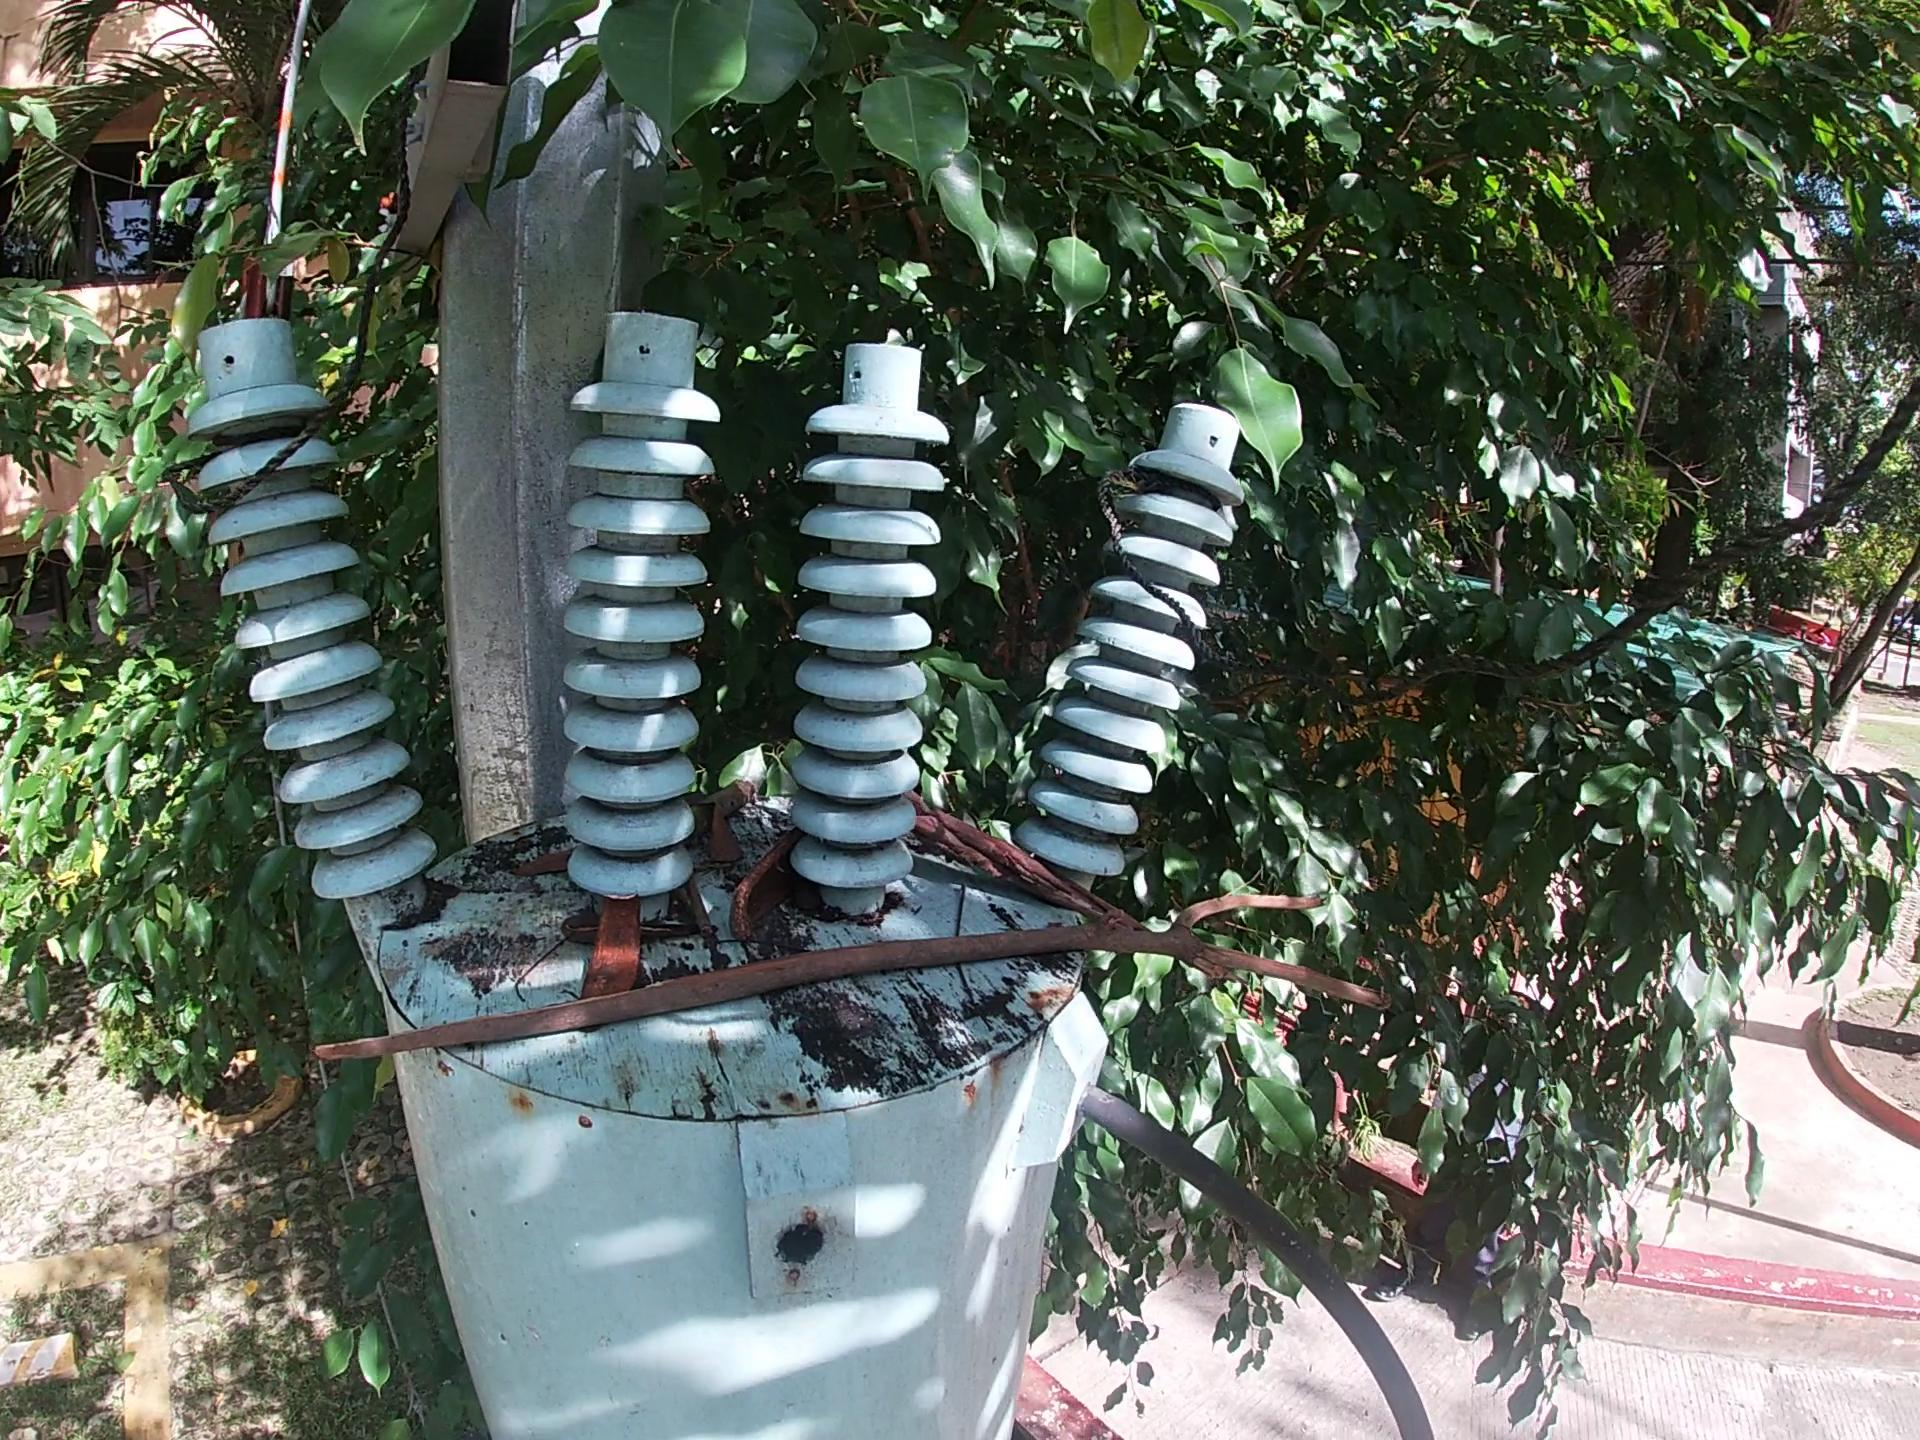leaf: (705, 796, 751, 877), (505, 849, 571, 888), (559, 905, 594, 959)
mahogany fruit: (727, 824, 819, 945), (579, 889, 652, 1007)
tree branch: (307, 883, 1392, 1075), (909, 790, 1155, 935), (683, 774, 760, 843), (679, 874, 720, 944)
